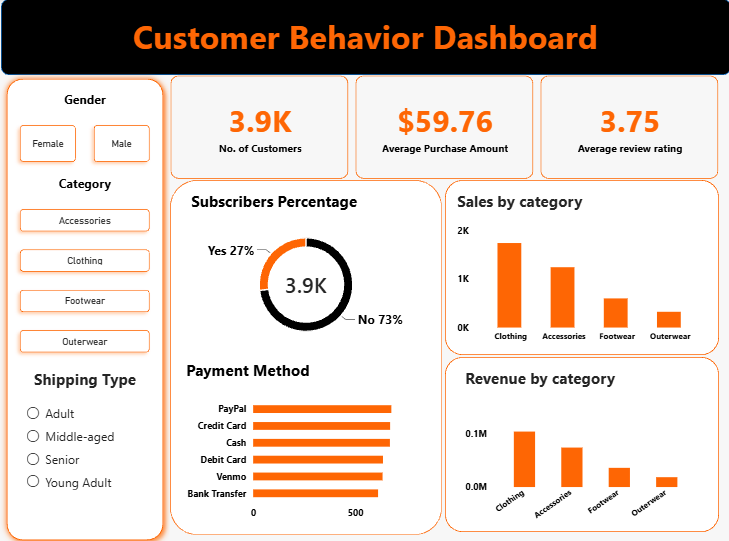

Layout of this report page (visuals, bound fields, positions):
{"tool":"powerbi","page":{"name":"Page 1","canvas":[960,720],"ordinal":0},"visuals":[{"type":"shape","box":[584.7,470.4,360,230],"z":1500},{"type":"cardVisual","fields":{"Data":["customer_behavior customer.Number of customers","customer_behavior customer.Average of purchase amount","customer_behavior customer.Average review rating"]},"box":[223.4,99.9,721.3,138],"z":2000},{"type":"shape","box":[1.3,0,959.1,99.9],"z":3000},{"type":"textbox","box":[0,19.7,960.4,80.1],"z":4000},{"type":"shape","box":[223.4,237.8,357.4,466.4],"z":5000},{"type":"donutChart","title":"Subscribers Percentage","fields":{"Category":["customer_behavior customer.subscription_status"],"Y":["CountNonNull(customer_behavior customer.customer_id)"]},"box":[235.2,237.8,333.7,233.9],"z":6000},{"type":"shape","box":[0,95.9,223.4,624.1],"z":7000},{"type":"shape","box":[584.7,237.8,360,230],"z":8000},{"type":"clusteredColumnChart","title":"Revenue by category","fields":{"Category":["customer_behavior customer.category"],"Y":["Sum(customer_behavior customer.purchase_amount)"]},"box":[595.2,470.4,339,233.9],"z":9000},{"type":"advancedSlicerVisual","title":"Gender","fields":{"Values":["customer_behavior customer.gender"]},"box":[18.4,120.9,186.6,101.2],"z":10000},{"type":"advancedSlicerVisual","title":"Category","fields":{"Values":["customer_behavior customer.category"]},"box":[18.4,231.2,186.6,244.4],"z":11000},{"type":"listSlicer","title":"Shipping Type","fields":{"Values":["customer_behavior customer.age_group"]},"box":[18.4,471.7,186.6,195.8],"z":12000},{"type":"clusteredColumnChart","title":"Sales by category","fields":{"Category":["customer_behavior customer.category"],"Y":["CountNonNull(customer_behavior customer.purchase_amount)"]},"box":[584.7,237.8,357.4,233.9],"z":13000},{"type":"barChart","title":"Payment Method","fields":{"Category":["customer_behavior customer.payment_method"],"Y":["CountNonNull(customer_behavior customer.customer_id)"]},"box":[228.6,459.9,345.5,244.4],"z":14000}]}

Visuals, with their boxes in screenshot pixels (x1, y1, x2, y2), scaled from the page's 960x720 canvas onto the 729x541 screenshot:
shape: box=[444, 353, 717, 526]
cardVisual - customer_behavior customer.Number of customers x customer_behavior customer.Average of purchase amount: box=[170, 75, 717, 179]
shape: box=[1, 0, 728, 75]
textbox: box=[0, 15, 728, 75]
shape: box=[170, 179, 441, 529]
"Subscribers Percentage" donutChart: box=[179, 179, 432, 354]
shape: box=[0, 72, 170, 540]
shape: box=[444, 179, 717, 351]
"Revenue by category" clusteredColumnChart: box=[452, 353, 709, 529]
"Gender" advancedSlicerVisual: box=[14, 91, 156, 167]
"Category" advancedSlicerVisual: box=[14, 174, 156, 357]
"Shipping Type" listSlicer: box=[14, 354, 156, 502]
"Sales by category" clusteredColumnChart: box=[444, 179, 715, 354]
"Payment Method" barChart: box=[174, 346, 436, 529]
